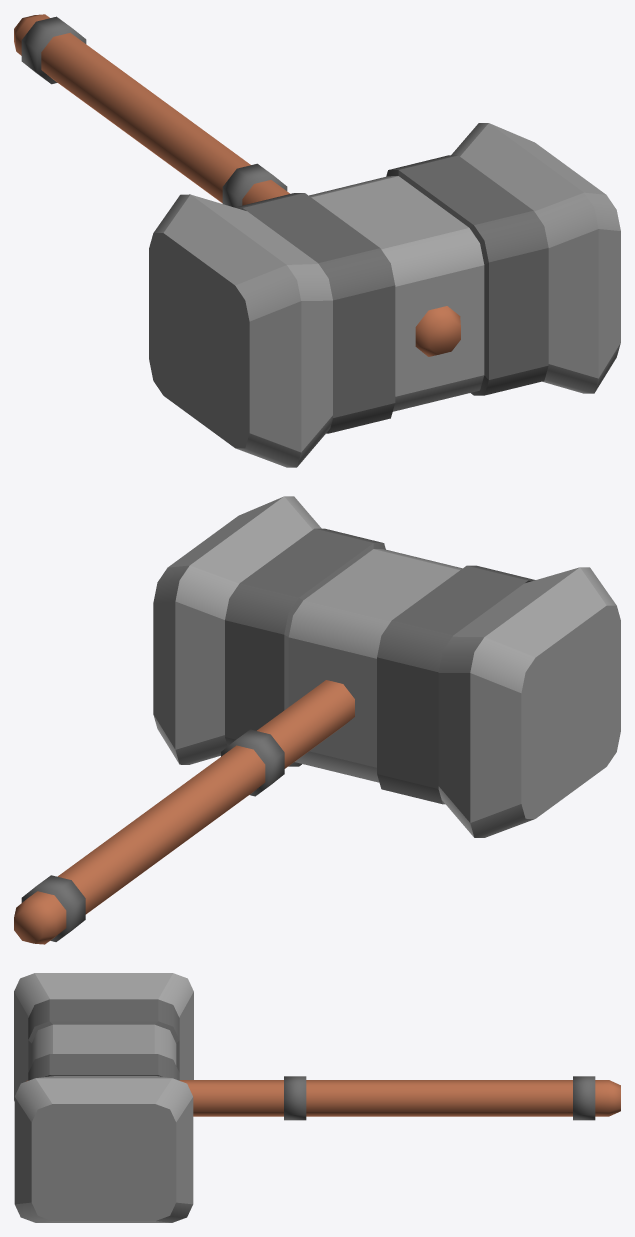
The model's file is Hammer.fbx.
3 views of the same model, one above another, from view 1: azimuth 30°, elevation 25°; view 2: azimuth 150°, elevation 25°; view 3: azimuth 270°, elevation 25° (orthographic). The views are drawn at different scales.
Visible parts, largest first — view 1: Hammer; view 2: Hammer; view 3: Hammer.
Part boxes in pixels (box(x1,y1,x2,y2)): Hammer: box(14, 14, 620, 467); Hammer: box(14, 496, 620, 944); Hammer: box(14, 973, 620, 1222).
Bounding box in the file's own units: 0.6772 × 0.3531 × 1.33.
